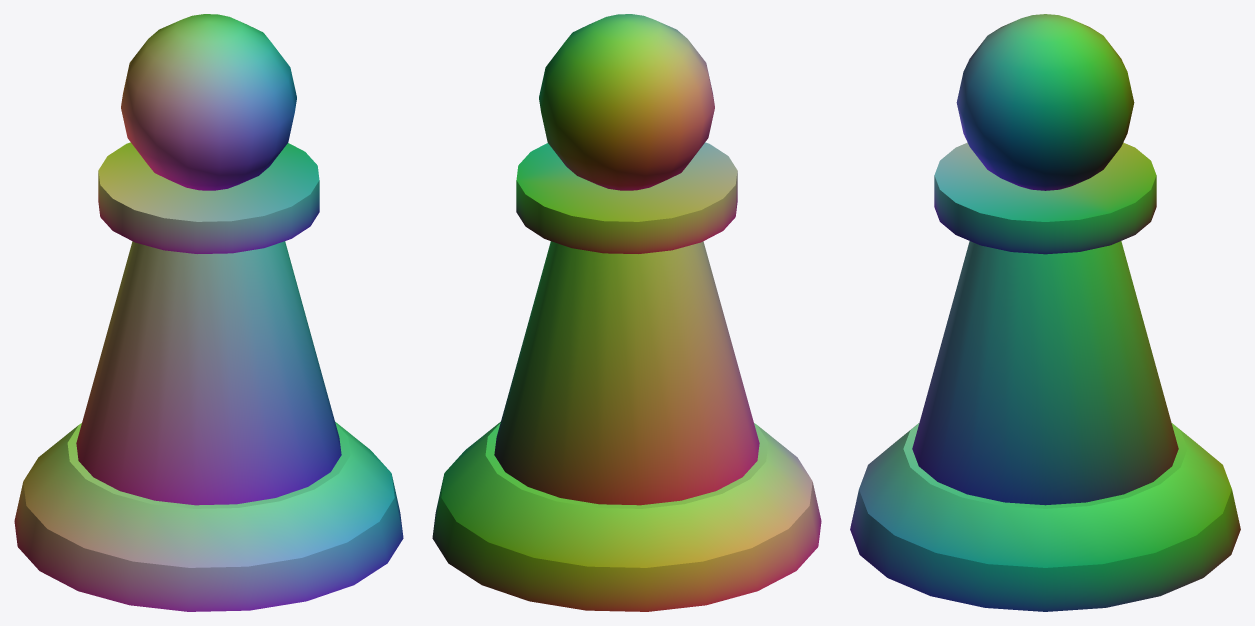
The model's file is pawn.fbx.
3 renders of one model, left to right at view 1: azimuth 30°, elevation 25°; view 2: azimuth 150°, elevation 25°; view 3: azimuth 270°, elevation 25°, orthographic.
Parts seen in each view (by area): view 1: pawn; view 2: pawn; view 3: pawn.
Part boxes in pixels (x1,y1,x2,y2): pawn: (14, 14, 403, 611); pawn: (432, 14, 821, 611); pawn: (850, 14, 1240, 611).
Size of the model in its own units: 0.44 by 0.63 by 0.44.
